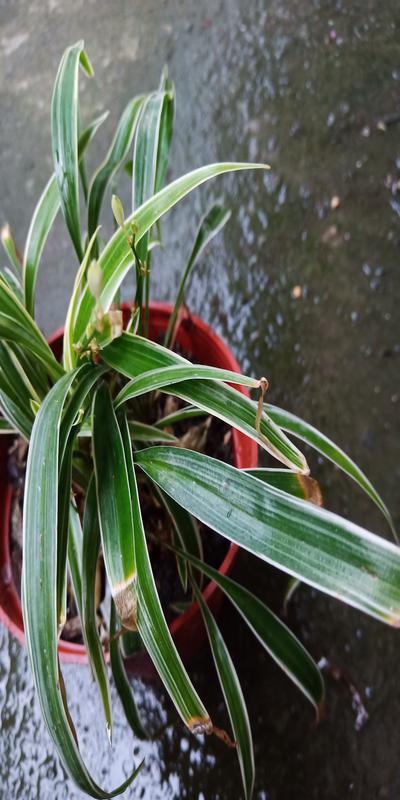Yellow and green leaf: (4, 183, 343, 633)
